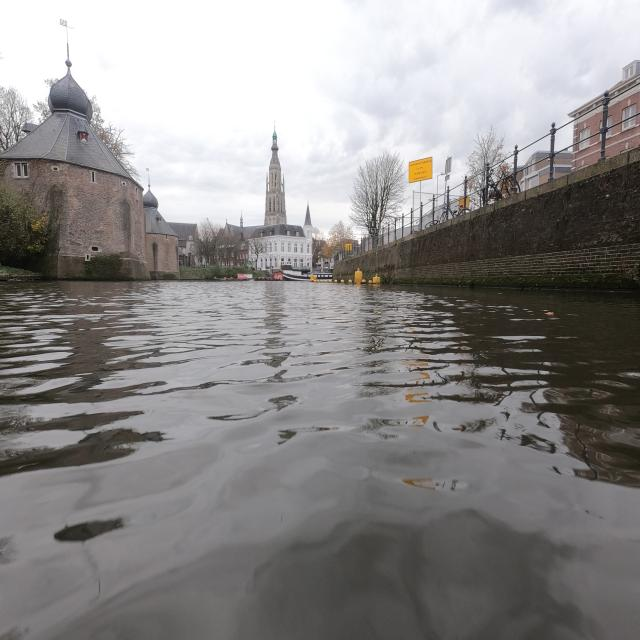grass: (180, 265, 251, 280)
sky: (0, 2, 638, 230)
wall: (342, 152, 638, 284), (2, 56, 146, 274)
water: (6, 290, 636, 634)
